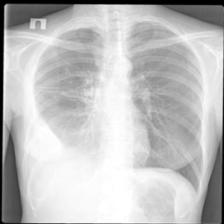tuberculosis: (27, 24, 204, 192)
